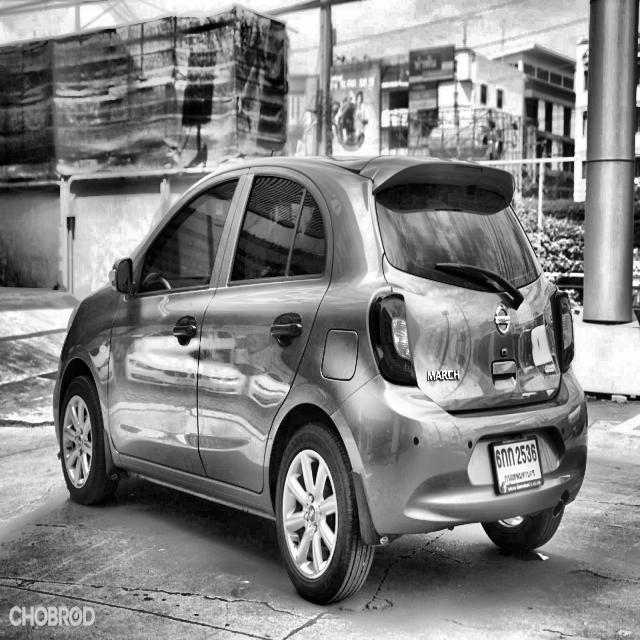license-plate: (484, 427, 546, 501)
